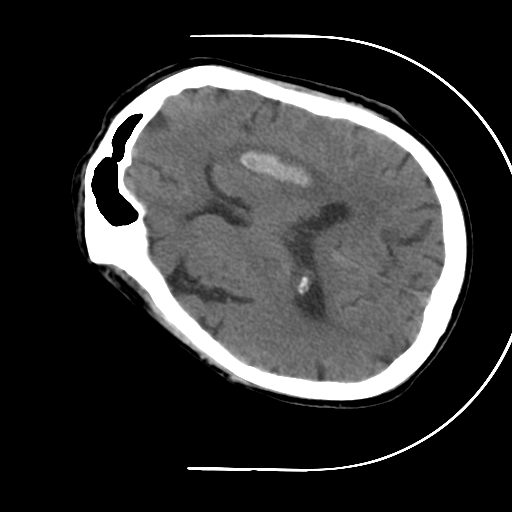a: (209, 129, 343, 210)
